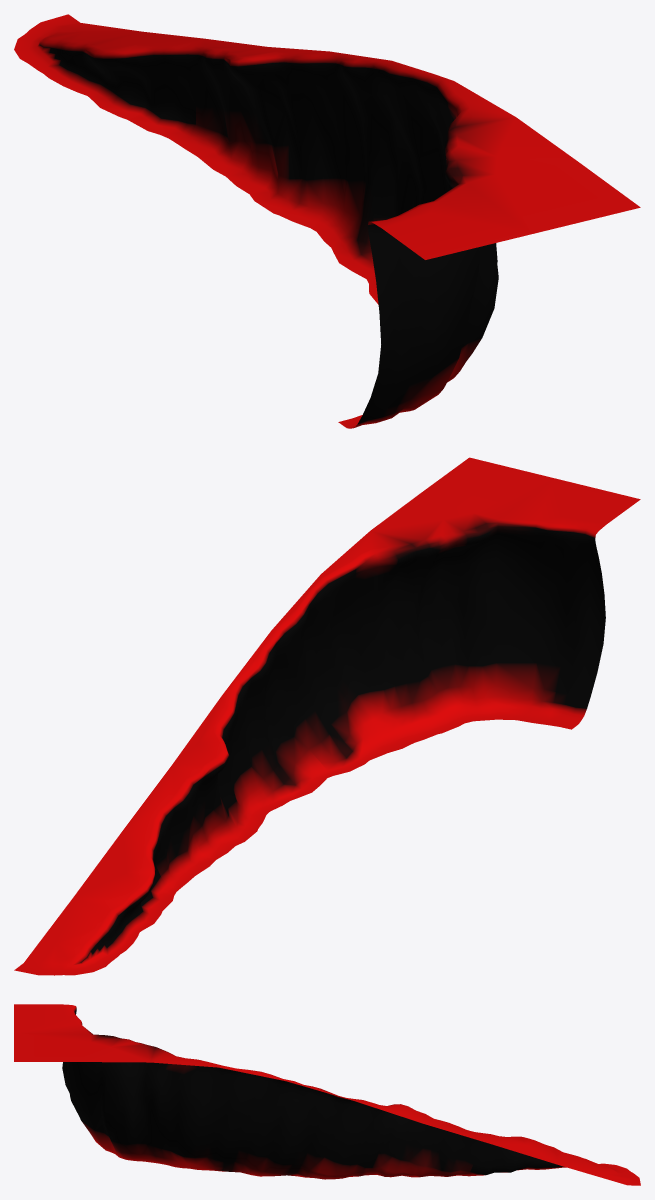
The model's file is ClimbCliff02B 2M Background.fbx.
3 views of the same model, one above another, from view 1: azimuth 30°, elevation 25°; view 2: azimuth 150°, elevation 25°; view 3: azimuth 270°, elevation 25° (orthographic). The views are drawn at different scales.
Parts seen in each view (by area): view 1: ClimbCliff02B 2M Background; view 2: ClimbCliff02B 2M Background; view 3: ClimbCliff02B 2M Background.
Boxes of the visible parts, box(x1,y1,x2,y2) form: ClimbCliff02B 2M Background: box(14, 14, 640, 428); ClimbCliff02B 2M Background: box(14, 457, 640, 975); ClimbCliff02B 2M Background: box(14, 1004, 640, 1185).
Size of the model in its own units: 2.06 by 2 by 9.19.
